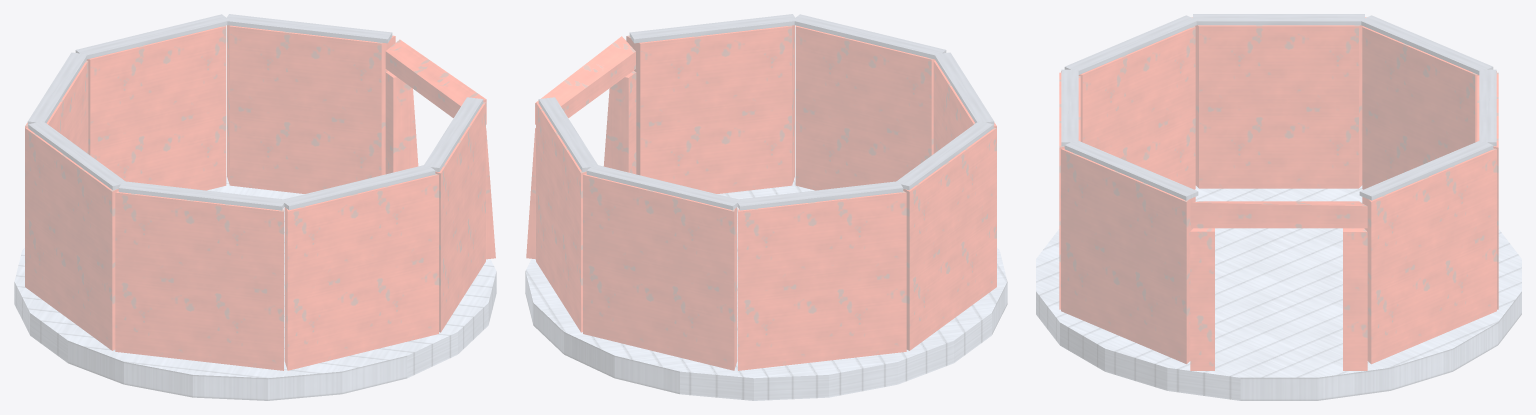
File: level.gltf
The picture shows the model from 3 angles, left to right: view 1: azimuth 30°, elevation 25°; view 2: azimuth 150°, elevation 25°; view 3: azimuth 270°, elevation 25°; orthographic projection.
Visible parts, largest first — view 1: P_Modul_03_Wall05, P_Modul_03_Wall06, P_Modul_03_Wall01, P_Modul_03_Wall02, P_Modul_03_Floor, P_Modul_03_Wall04, P_Modul_03_Wall07, P_Modul_03_Gate, P_Modul_03_Wall03; view 2: P_Modul_03_Wall03, P_Modul_03_Wall02, P_Modul_03_Wall07, P_Modul_03_Wall06, P_Modul_03_Floor, P_Modul_03_Wall04, P_Modul_03_Wall01, P_Modul_03_Gate, P_Modul_03_Wall05; view 3: P_Modul_03_Floor, P_Modul_03_Wall04, P_Modul_03_Wall01, P_Modul_03_Wall07, P_Modul_03_Wall05, P_Modul_03_Wall03, P_Modul_03_Gate, P_Modul_03_Wall06, P_Modul_03_Wall02.
Part boxes in pixels (x1,y1,x2,y2): P_Modul_03_Wall05: (115, 181, 285, 370); P_Modul_03_Wall06: (281, 165, 438, 370); P_Modul_03_Wall01: (227, 14, 395, 193); P_Modul_03_Wall02: (75, 14, 229, 190); P_Modul_03_Floor: (14, 176, 496, 400); P_Modul_03_Wall04: (25, 121, 125, 350); P_Modul_03_Wall07: (423, 97, 485, 332); P_Modul_03_Gate: (385, 39, 495, 259); P_Modul_03_Wall03: (25, 52, 88, 153); P_Modul_03_Wall03: (736, 181, 906, 370); P_Modul_03_Wall02: (583, 164, 740, 370); P_Modul_03_Wall07: (626, 14, 796, 193); P_Modul_03_Wall06: (792, 14, 946, 190); P_Modul_03_Floor: (525, 176, 1007, 400); P_Modul_03_Wall04: (895, 121, 996, 350); P_Modul_03_Wall01: (536, 97, 598, 332); P_Modul_03_Gate: (526, 36, 636, 259); P_Modul_03_Wall05: (933, 52, 996, 153); P_Modul_03_Floor: (1036, 185, 1521, 400); P_Modul_03_Wall04: (1191, 14, 1366, 188); P_Modul_03_Wall01: (1359, 141, 1496, 364); P_Modul_03_Wall07: (1061, 141, 1198, 364); P_Modul_03_Wall05: (1061, 15, 1197, 189); P_Modul_03_Wall03: (1360, 15, 1496, 189); P_Modul_03_Gate: (1190, 201, 1367, 370); P_Modul_03_Wall06: (1059, 69, 1080, 309); P_Modul_03_Wall02: (1477, 69, 1498, 309).
Bounding box in the file's own units: 19.75 × 8.63 × 19.75.
3 materials, 3 textured.
